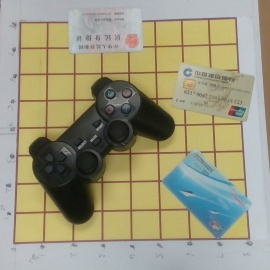card: (162, 148, 252, 238), (171, 62, 254, 124), (67, 6, 143, 53)
remote: (26, 75, 175, 226)
